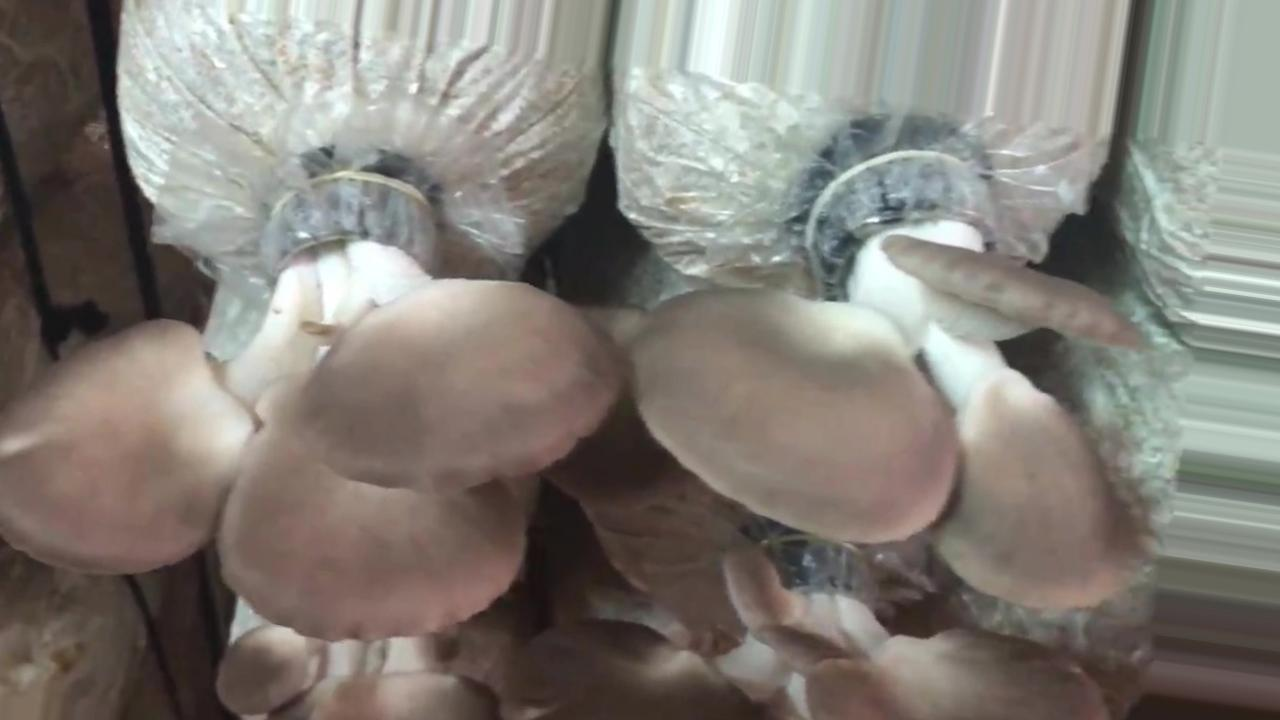nam: (1, 173, 623, 636), (635, 156, 1141, 605), (524, 541, 1100, 720), (220, 632, 499, 720)
